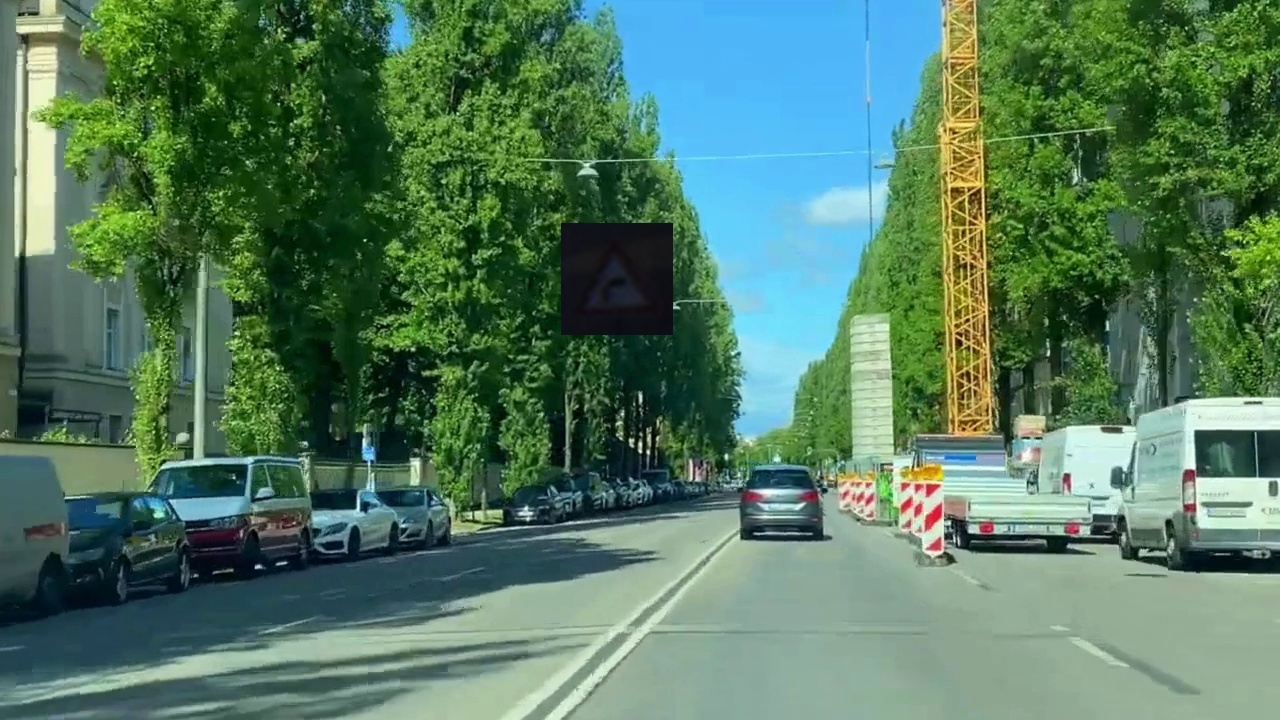Curve right: (561, 223, 673, 335)
